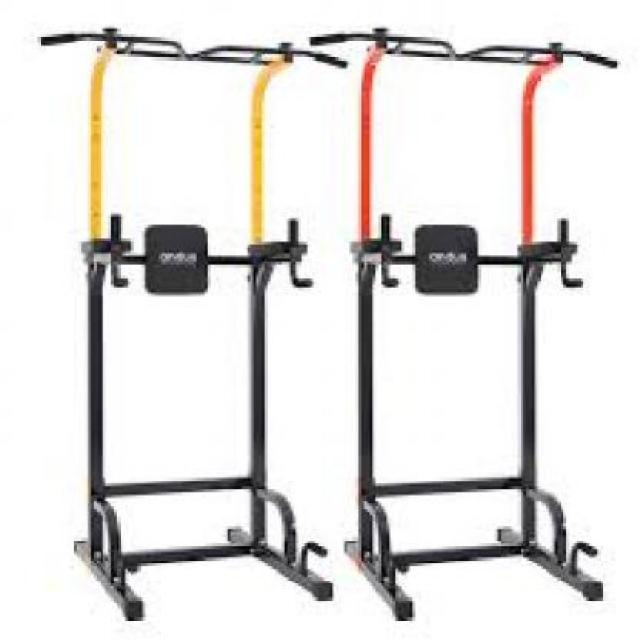chinning dipping: (303, 28, 619, 623), (37, 24, 338, 622)
